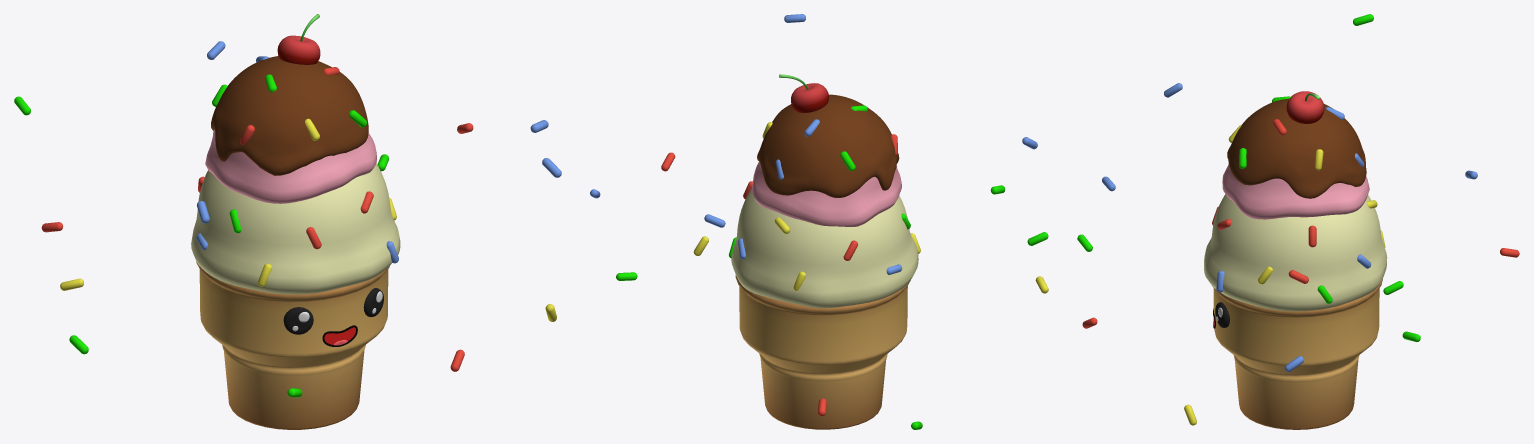
File: smiling_ice_cream.glb
3 views of the same model, side by side, from view 1: azimuth 30°, elevation 25°; view 2: azimuth 150°, elevation 25°; view 3: azimuth 270°, elevation 25° (orthographic). The views are drawn at different scales.
Visible parts, largest first — view 1: Cylinder_0, Sphere_1, Sphere.003_5, Sphere.001_2, Cylinder.001_11, Sphere.002_3, Cylinder.026_6; view 2: Cylinder_0, Sphere_1, Sphere.003_5, Sphere.001_2, Cylinder.001_11, Sphere.002_3; view 3: Cylinder_0, Sphere_1, Sphere.003_5, Sphere.001_2, Cylinder.001_11, Sphere.002_3.
Part boxes in pixels (box(x1,y1,x2,y2)): Cylinder_0: box(196, 261, 389, 429); Sphere_1: box(191, 163, 400, 294); Sphere.003_5: box(211, 56, 368, 175); Sphere.001_2: box(205, 129, 376, 203); Cylinder.001_11: box(196, 56, 398, 286); Sphere.002_3: box(277, 35, 320, 64); Cylinder.026_6: box(283, 288, 383, 334); Cylinder_0: box(735, 275, 910, 429); Sphere_1: box(731, 188, 918, 308); Sphere.003_5: box(757, 94, 899, 197); Sphere.001_2: box(752, 161, 901, 226); Cylinder.001_11: box(729, 105, 920, 290); Sphere.002_3: box(791, 83, 828, 112); Cylinder_0: box(1212, 278, 1382, 429); Sphere_1: box(1204, 194, 1387, 311); Sphere.003_5: box(1227, 98, 1366, 198); Sphere.001_2: box(1222, 164, 1369, 219); Cylinder.001_11: box(1212, 96, 1385, 303); Sphere.002_3: box(1286, 91, 1324, 123).
Bounding box in the file's own units: 3.16 × 2.22 × 2.73.
Materials: 15 (3 with a texture image).
